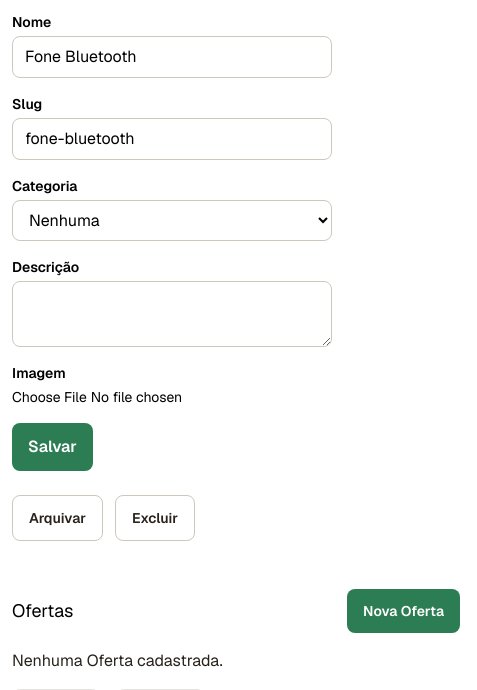
Test: ProductDetail › REGRESSÃO: resposta de PATCH realmente incompatível (sem name) ainda produz erro
This screenshot has width=477, height=690.
Replace the text in the field labelled "Nome" with "Fone Bluetooth Pro" at (172, 57), box [12,36,332,78]
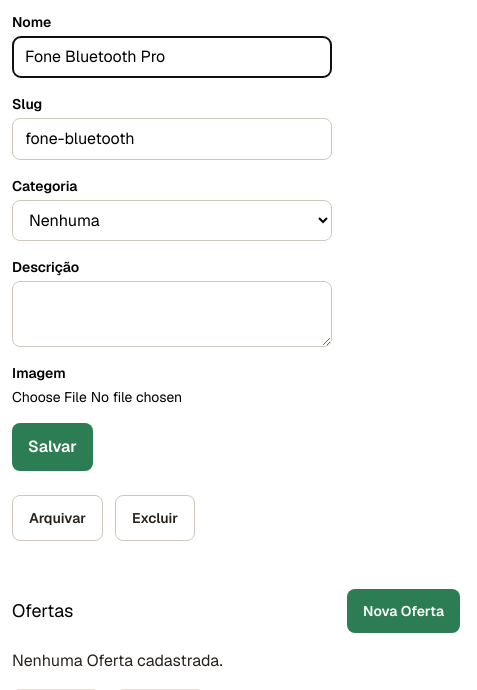
Click the button "Salvar" at (52, 447), box [12,423,93,471]
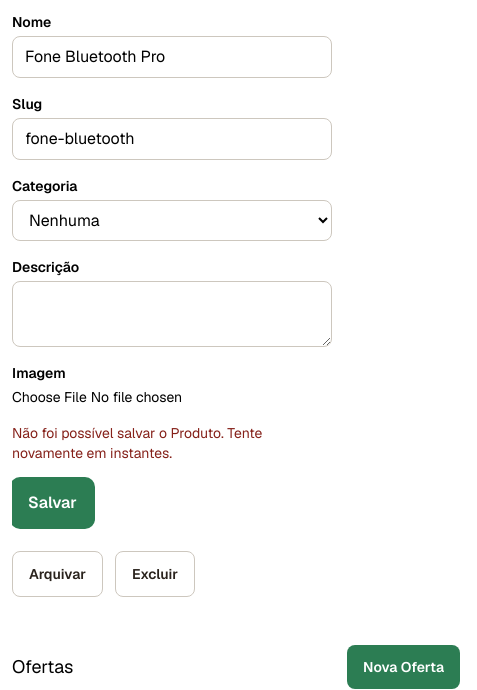
Check: the text "Não foi possível salvar o Produto. Tente novamente em instantes." is shown, box [12,424,262,462]
